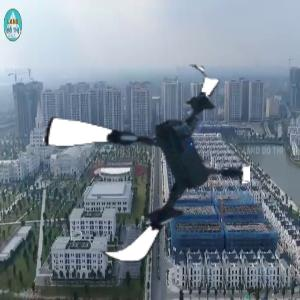drone: (44, 60, 252, 268)
